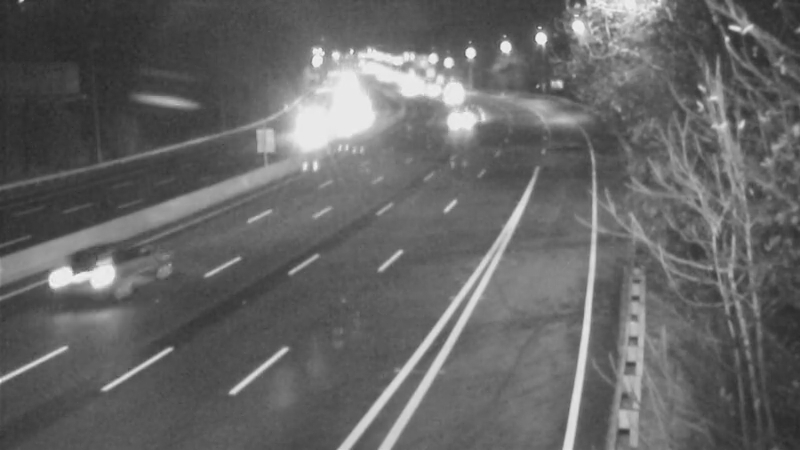vehicle: (46, 235, 126, 315), (423, 74, 473, 124), (433, 93, 483, 143), (283, 105, 333, 155)
